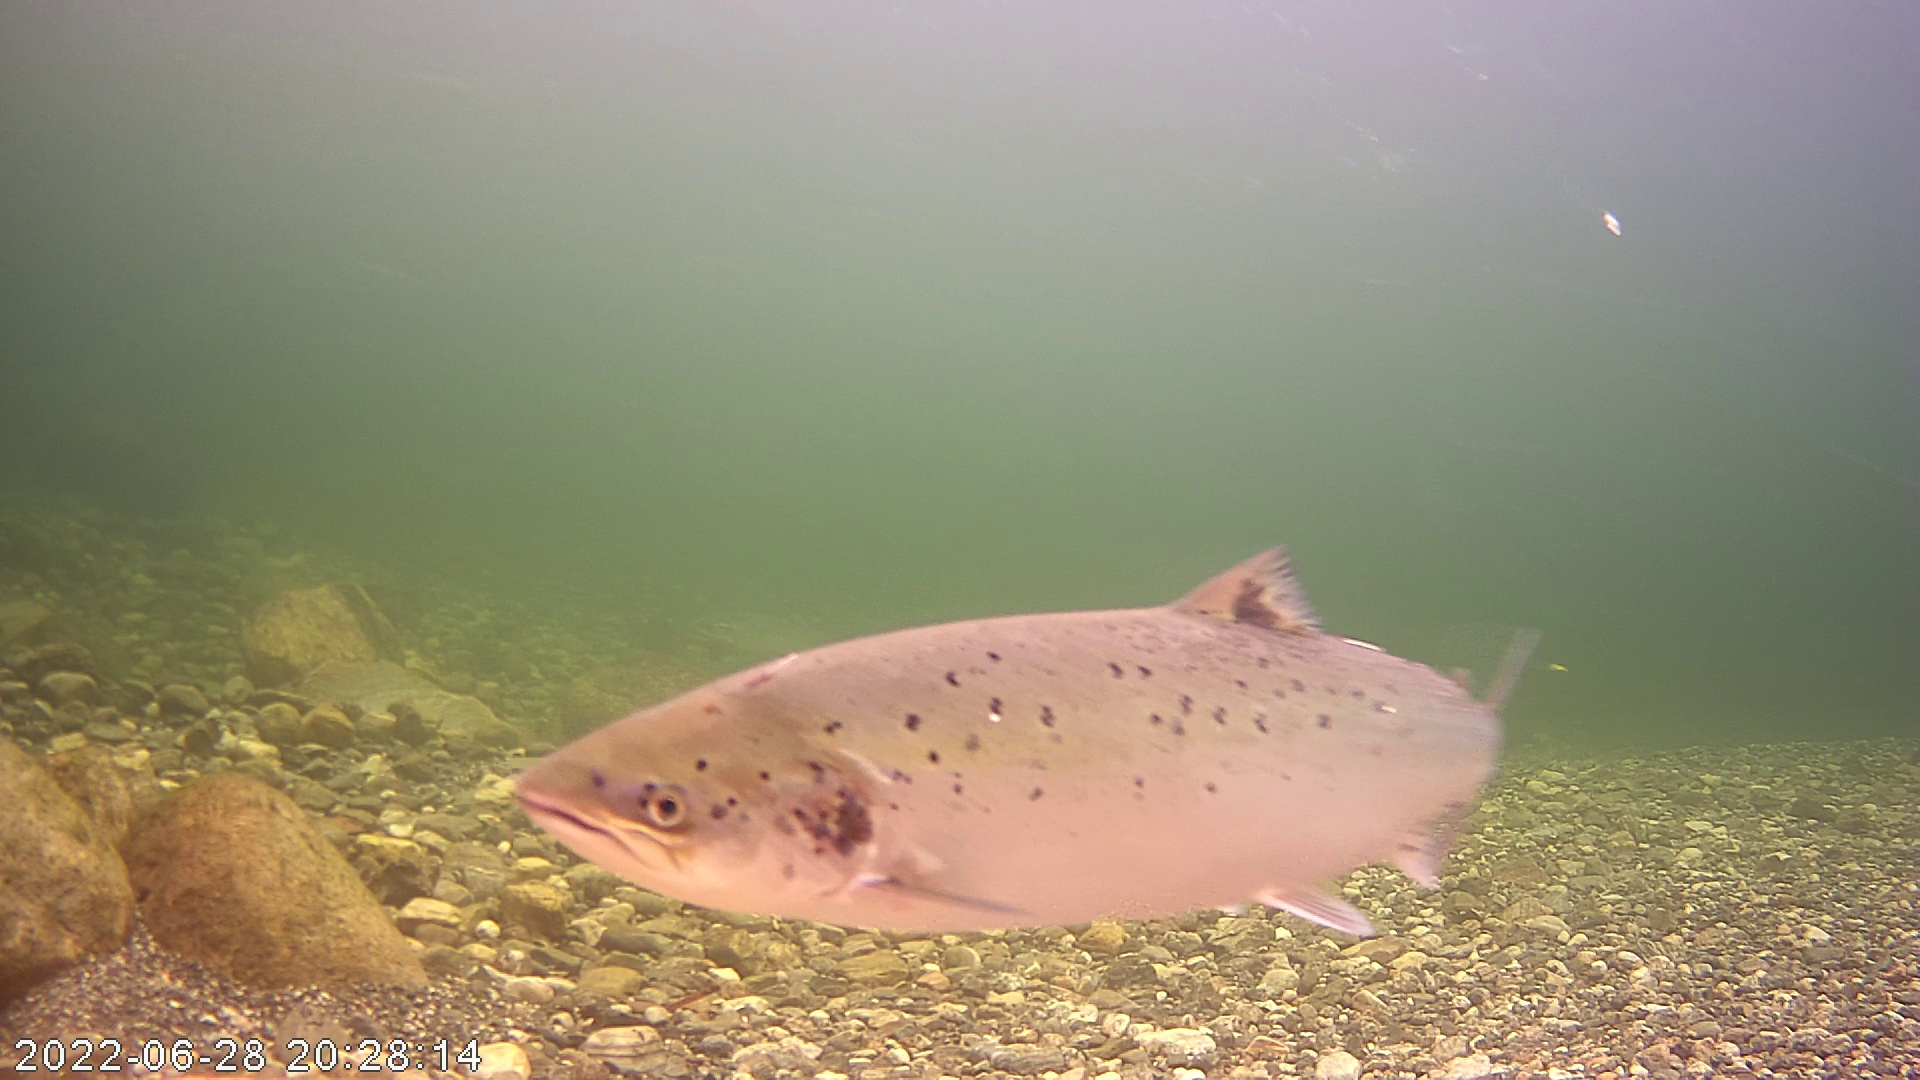salmon: (500, 489, 1540, 939)
